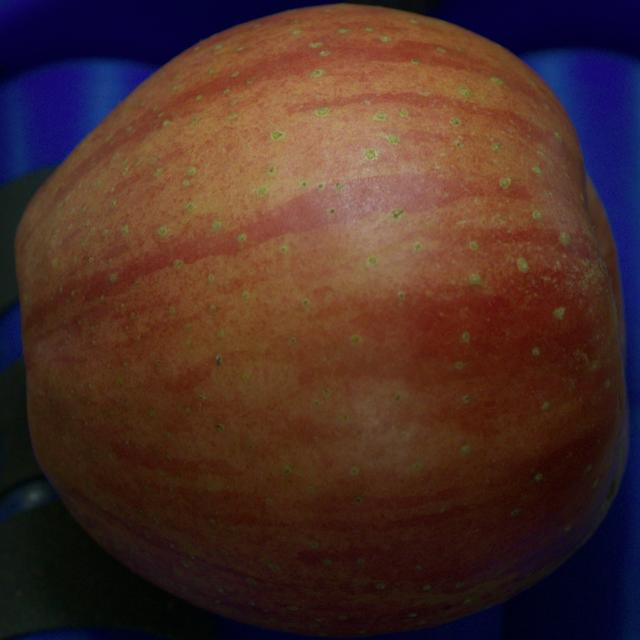apple: (15, 4, 628, 636)
